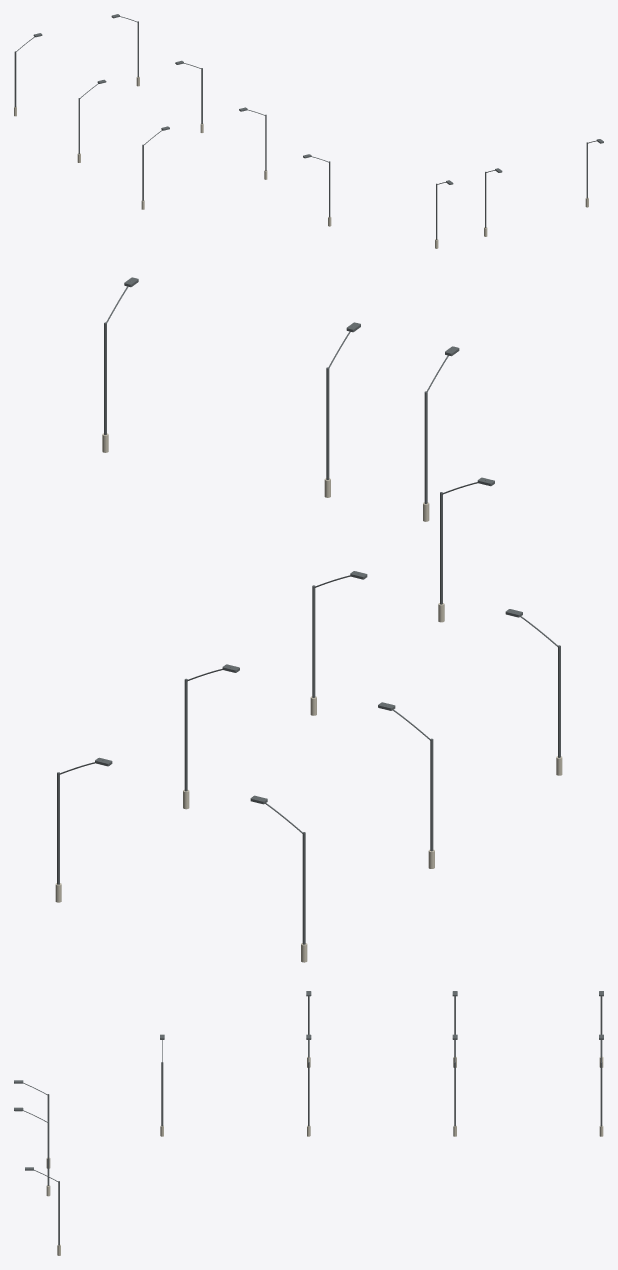
The picture shows the model from 3 angles, top to bottom: view 1: azimuth 30°, elevation 25°; view 2: azimuth 150°, elevation 25°; view 3: azimuth 270°, elevation 25°; orthographic projection. The views are drawn at different scales.
Parts seen in each view (by area): view 1: buildings_s_-4_-4_Dark_Metal, buildings_s_-4_-4_Warm_Limestone; view 2: buildings_s_-4_-4_Dark_Metal, buildings_s_-4_-4_Warm_Limestone; view 3: buildings_s_-4_-4_Dark_Metal, buildings_s_-4_-4_Warm_Limestone.
Boxes of the visible parts, <box> form: buildings_s_-4_-4_Dark_Metal: <box>14,14,603,239</box>; buildings_s_-4_-4_Warm_Limestone: <box>14,76,588,248</box>; buildings_s_-4_-4_Dark_Metal: <box>57,277,560,944</box>; buildings_s_-4_-4_Warm_Limestone: <box>55,433,562,962</box>; buildings_s_-4_-4_Dark_Metal: <box>14,991,603,1245</box>; buildings_s_-4_-4_Warm_Limestone: <box>46,1057,603,1255</box>.
Bounding box in the file's own units: 82.79 × 17.75 × 109.
